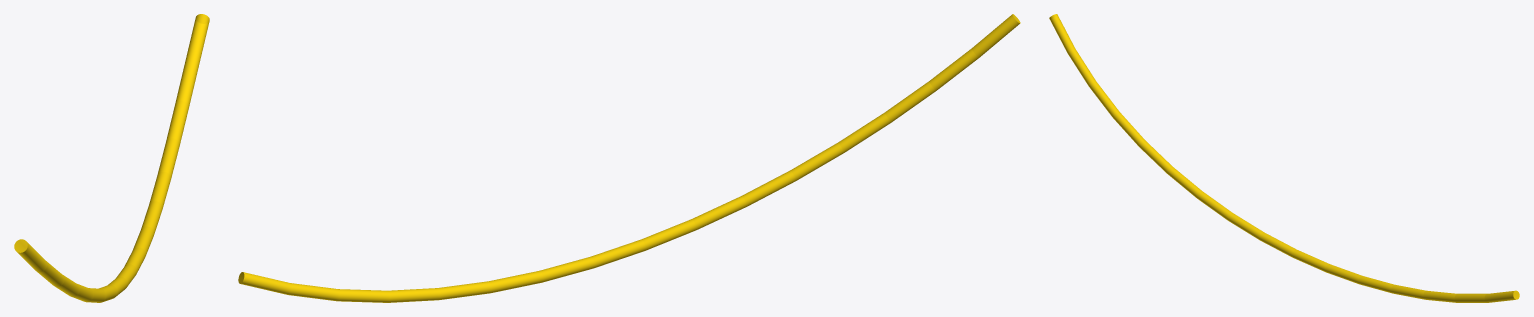
The model's file is Event_421278790_track_5.fbx.
3 renders of one model, left to right at view 1: azimuth 30°, elevation 25°; view 2: azimuth 150°, elevation 25°; view 3: azimuth 270°, elevation 25°, orthographic. The views are drawn at different scales.
Visible parts, largest first — view 1: Model; view 2: Model; view 3: Model.
Part boxes in pixels (x1,y1,x2,y2): Model: (14,14,209,302); Model: (238,14,1020,302); Model: (1049,14,1519,302).
Bounding box in the file's own units: 1.78 × 0.74 × 2.05.
